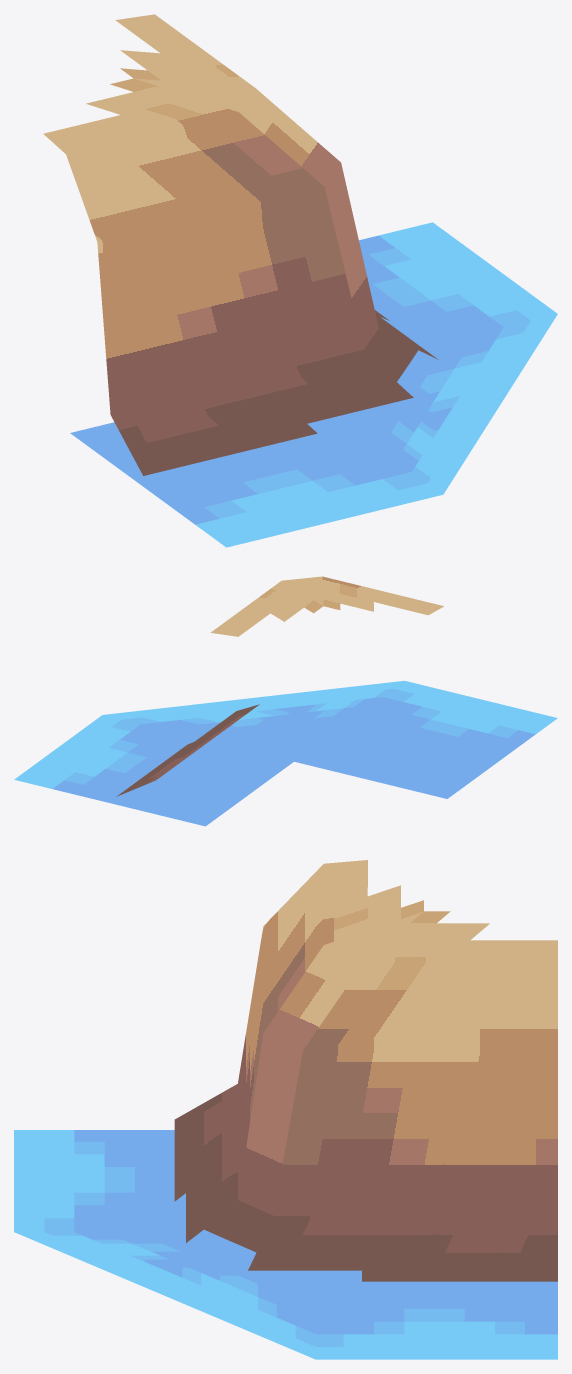
The picture shows the model from 3 angles, top to bottom: view 1: azimuth 30°, elevation 25°; view 2: azimuth 150°, elevation 25°; view 3: azimuth 270°, elevation 25°; orthographic projection. The views are drawn at different scales.
Bounding box in the file's own units: 1.12 × 0.627 × 1.12.
2 materials, 2 textured.
